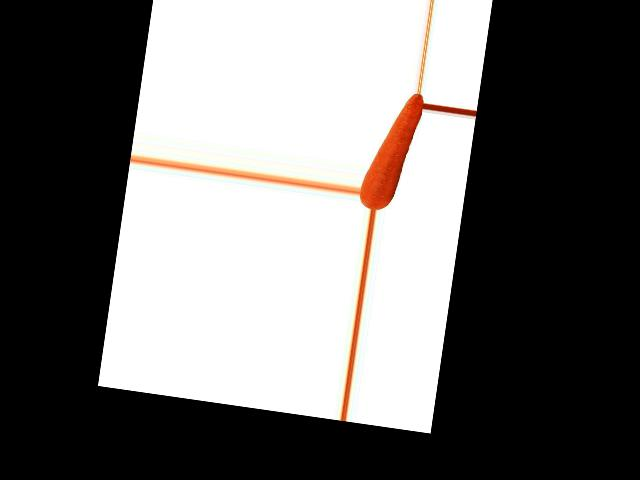carrot: (358, 89, 424, 214)
